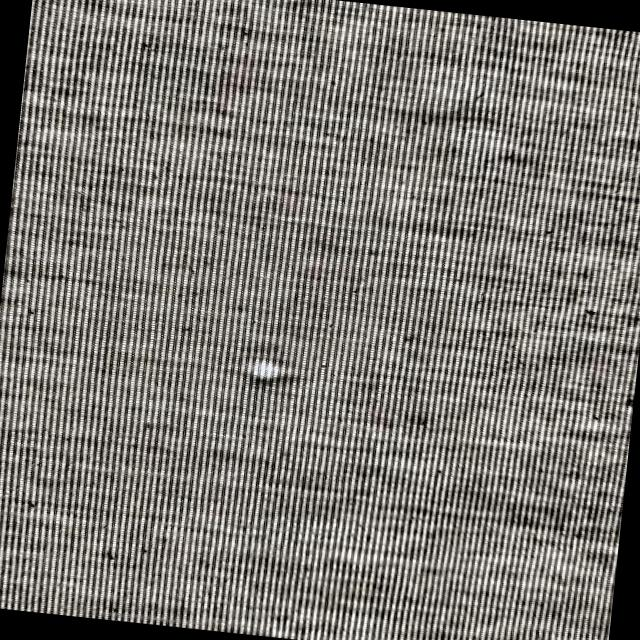cut: (240, 350, 296, 394)
